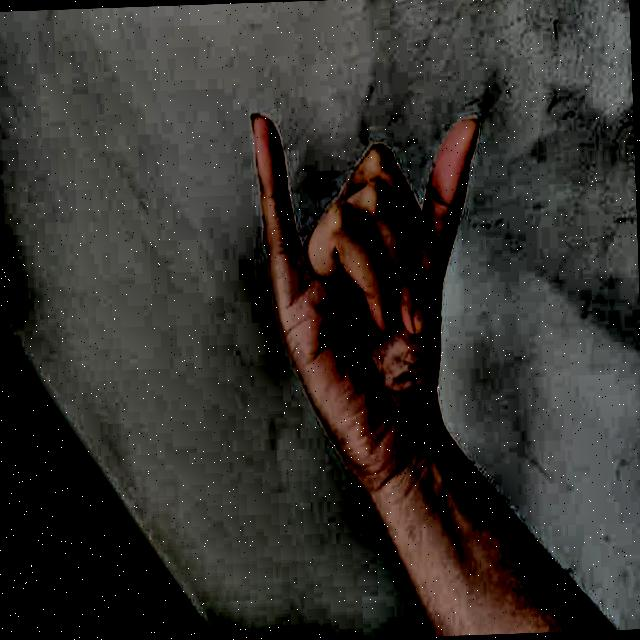Oi: (230, 54, 510, 492)
